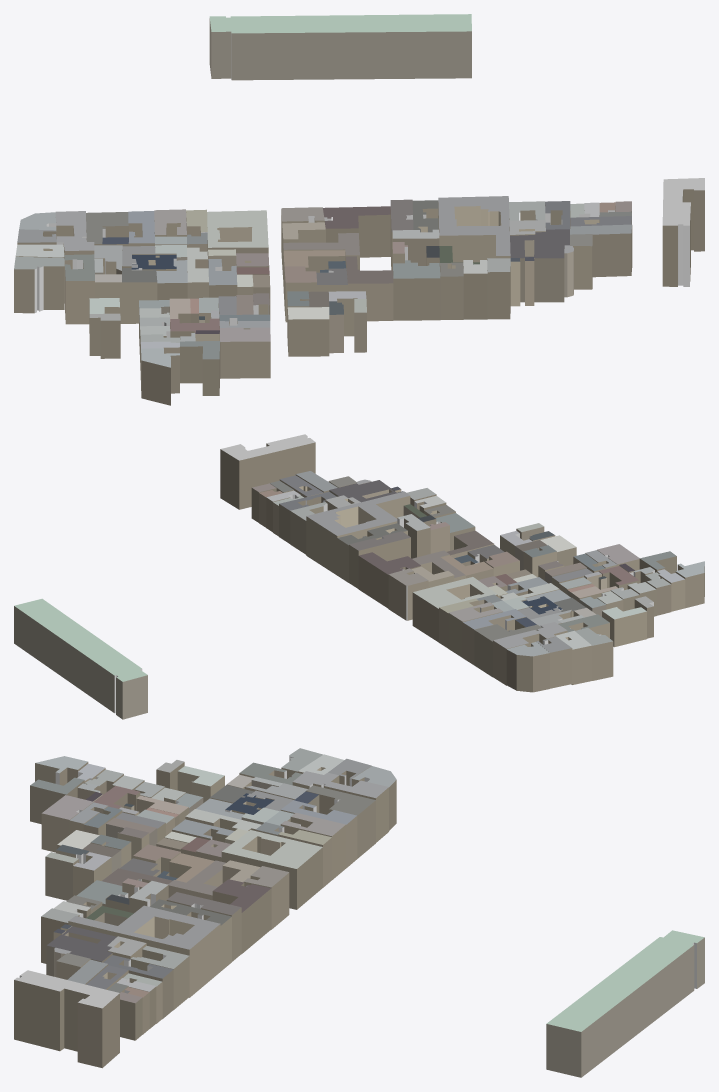
3 renders of one model, top to bottom at view 1: azimuth 30°, elevation 25°; view 2: azimuth 150°, elevation 25°; view 3: azimuth 270°, elevation 25°, orthographic. The views are drawn at different scales.
Visible parts, largest first — view 1: tuile; view 2: tuile; view 3: tuile.
Part boxes in pixels (x1=…): tuile: x1=14, y1=14, x2=704, y2=405; tuile: x1=14, y1=434, x2=704, y2=719; tuile: x1=14, y1=748, x2=704, y2=1077.
Bounding box in the file's own units: 268 × 28.02 × 273.
